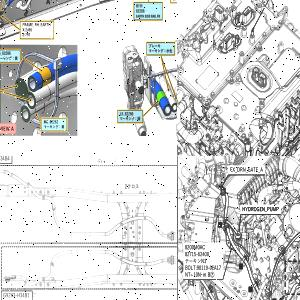PartNumber: (184, 250, 210, 258), (3, 292, 29, 298), (196, 265, 222, 271), (0, 156, 10, 161)
